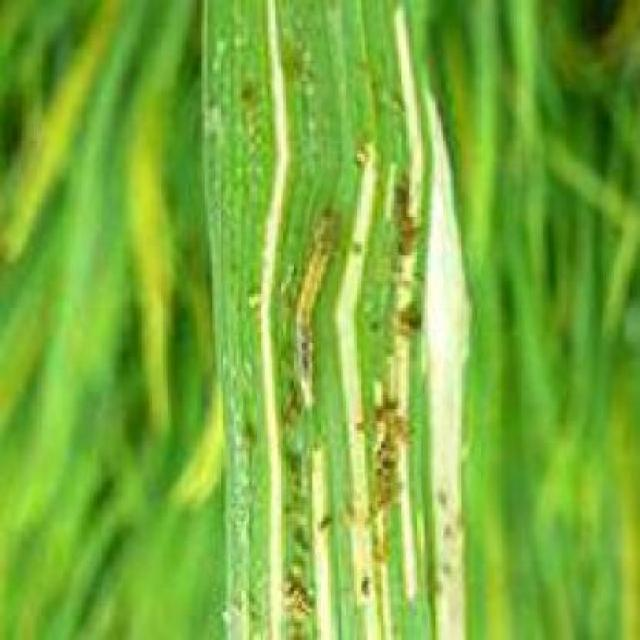leaf-folder: (272, 186, 354, 425)
